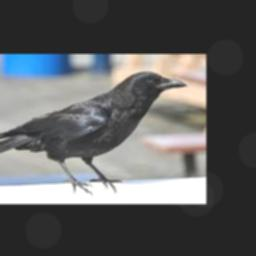Crow: (0, 70, 188, 193)
